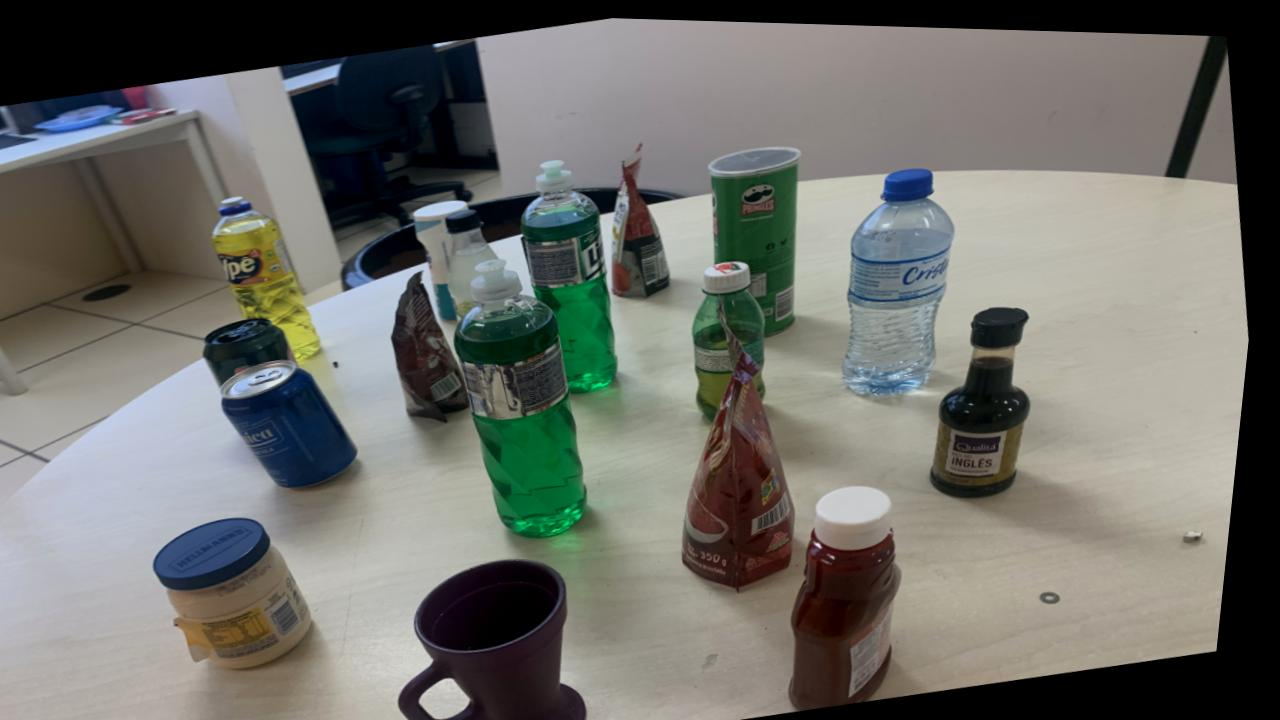Cleaner-Cleanup_Items: (418, 196, 470, 316)
Coffee-Pantry_Items: (399, 270, 476, 419)
Detergent-Cleanup_Items: (460, 256, 597, 534), (525, 157, 625, 389), (217, 195, 329, 359)
English_Sauce-Pantry_Items: (939, 300, 1038, 491)
Guarana-Drinks: (697, 256, 771, 413)
Guarana_Can-Drinks: (210, 315, 302, 384)
Ketchup-Pantry_Items: (803, 479, 913, 703)
Mayonnaise-Pantry_Items: (165, 515, 325, 667)
Pringles-Snacks: (712, 141, 802, 330)
Soda-Drinks: (449, 205, 503, 316)
Tomato_Sauce-Pantry_Items: (693, 299, 804, 583), (616, 141, 675, 293)
Tonic-Drinks: (229, 357, 367, 486)
Water_Bottle-Drinks: (850, 163, 959, 389)
